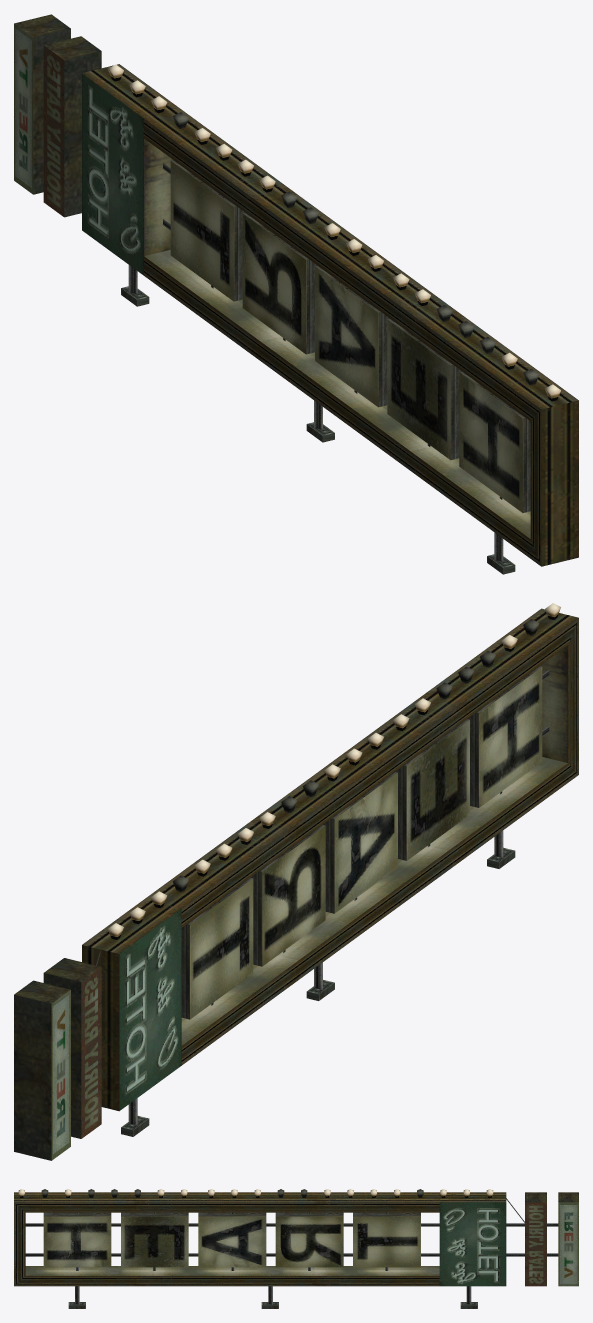
Rendered from heart_hotel_sign.fbx.
The picture shows the model from 3 angles, top to bottom: view 1: azimuth 30°, elevation 25°; view 2: azimuth 150°, elevation 25°; view 3: azimuth 270°, elevation 25°; orthographic projection. The views are drawn at different scales.
Parts seen in each view (by area): view 1: mesh_0; view 2: mesh_0; view 3: mesh_0.
Part boxes in pixels (x1,y1,x2,y2): mesh_0: (14, 14, 578, 574); mesh_0: (14, 603, 578, 1160); mesh_0: (14, 1189, 578, 1308).
Bounding box in the file's own units: 60 × 337 × 1460.
Materials: 1 (1 with a texture image).
